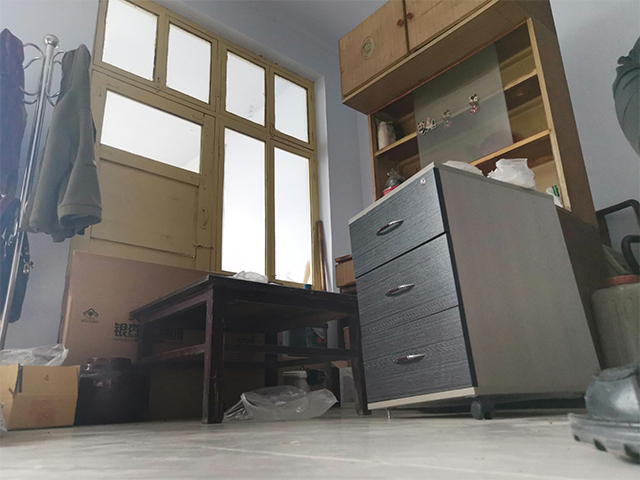cabinet: (345, 158, 600, 423)
table: (126, 271, 371, 425)
